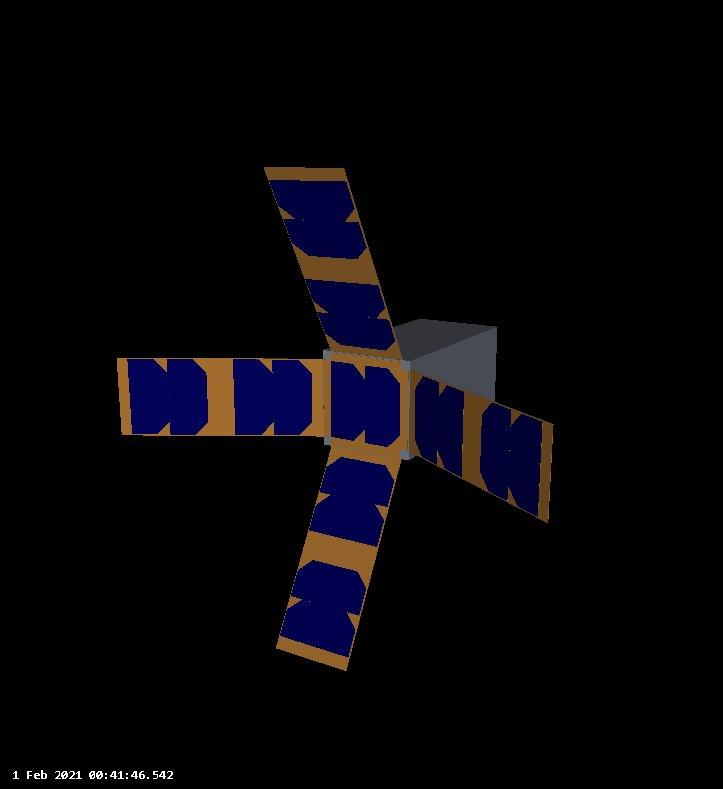body: (319, 315, 502, 464)
solar: (272, 443, 417, 676), (262, 164, 406, 360), (409, 368, 555, 527), (115, 356, 327, 440), (327, 359, 408, 451)
